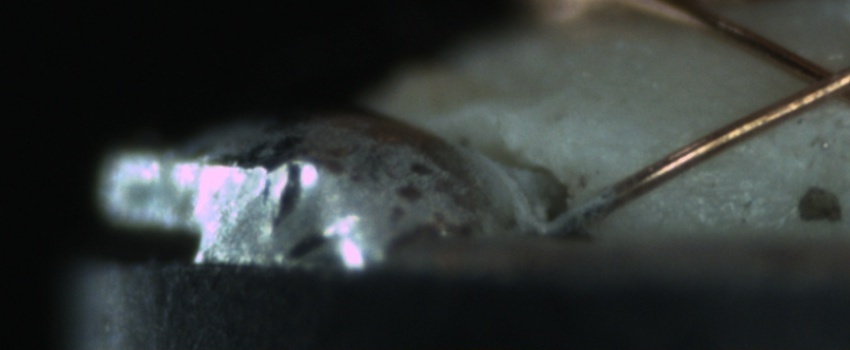CL: (779, 51, 849, 113)
TS: (530, 184, 619, 236)
